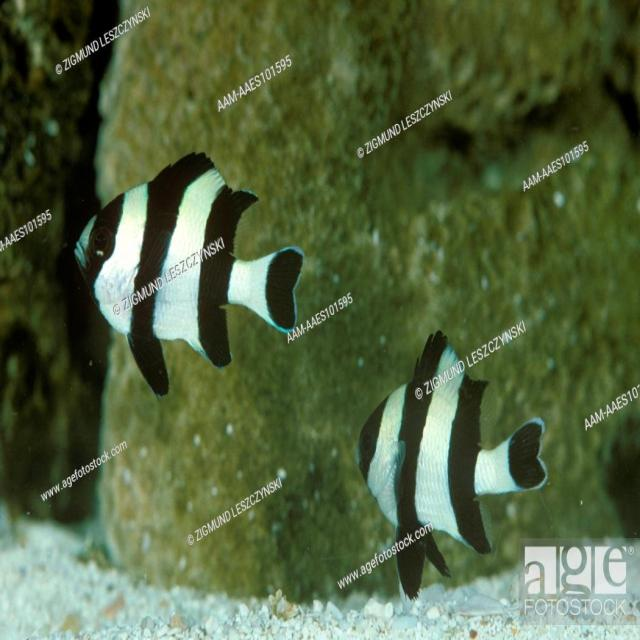ThreeStripedDamselfish: (67, 156, 306, 398), (358, 333, 548, 600)
